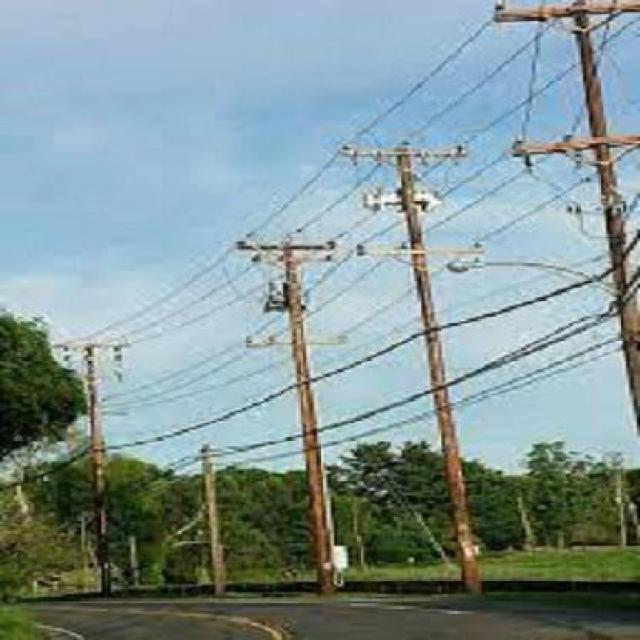pole: (343, 132, 492, 596), (497, 0, 638, 431), (231, 226, 351, 592), (60, 334, 135, 592)
